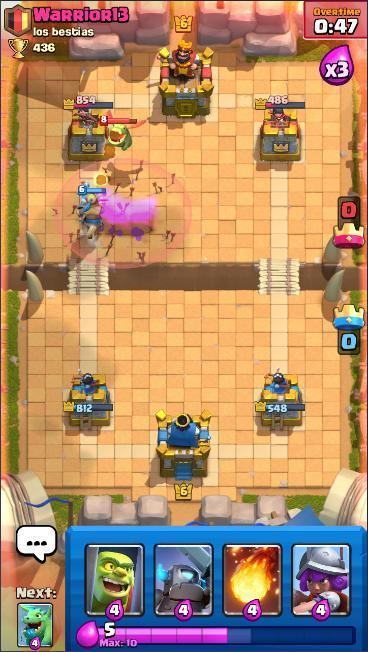ally_prince: (76, 184, 108, 241)
enemy_baby_dragon: (99, 107, 148, 152)
